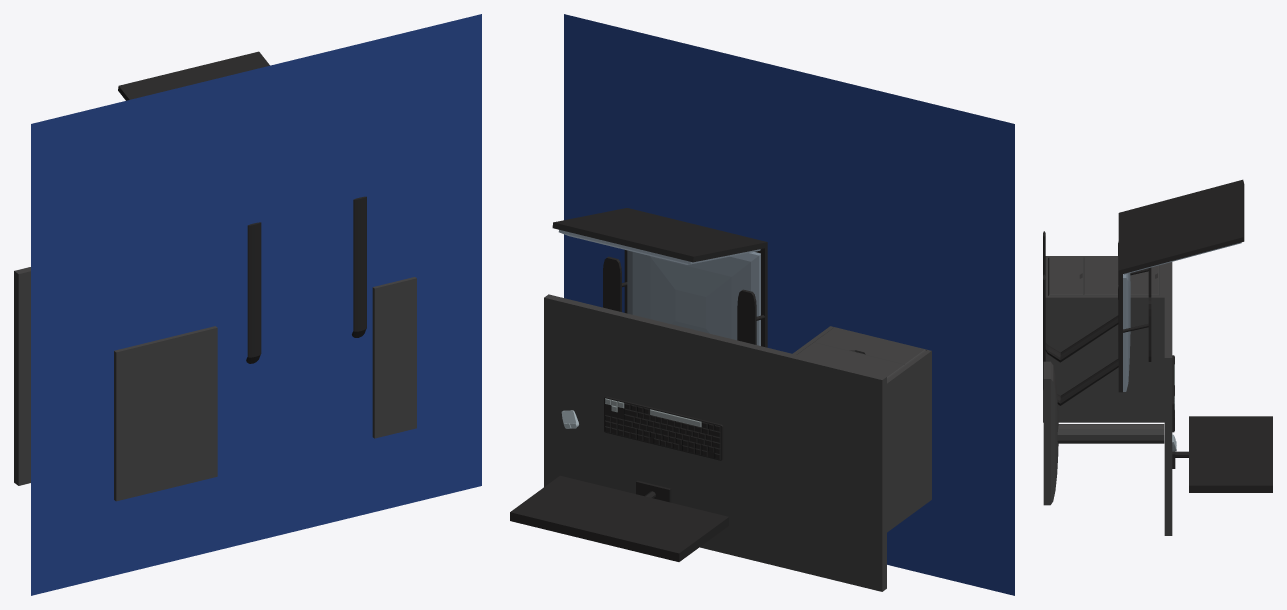
File: WorkingRoom_LargeTable.fbx
3 renders of one model, left to right at view 1: azimuth 30°, elevation 25°; view 2: azimuth 150°, elevation 25°; view 3: azimuth 270°, elevation 25°, orthographic. The views are drawn at different scales.
Parts seen in each view (by area): view 1: Plane.281, desk.001; view 2: Plane.281, desk.001; view 3: desk.001.
Part boxes in pixels (<box>): Plane.281: <box>31,14,481,595</box>; desk.001: <box>14,51,416,501</box>; Plane.281: <box>564,14,1014,595</box>; desk.001: <box>510,208,931,591</box>; desk.001: <box>1043,179,1272,535</box>.
Size of the model in its own units: 4 by 4 by 2.1.
